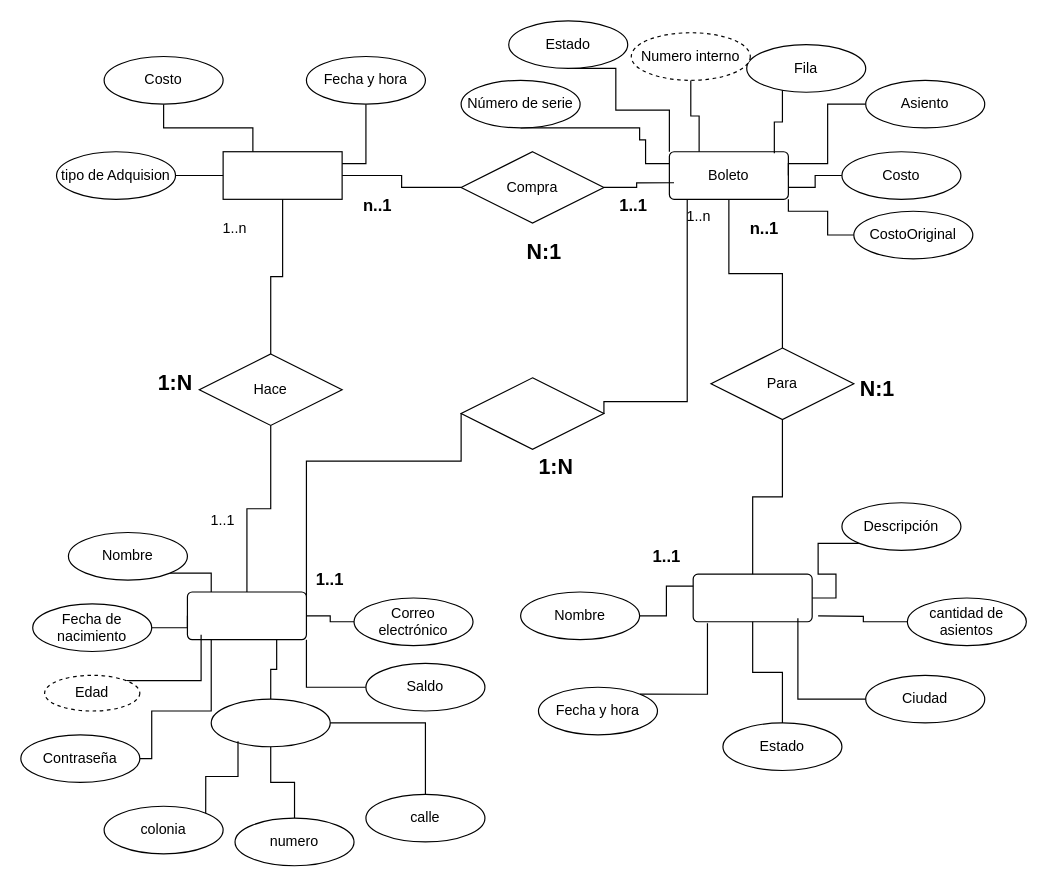
This 1047x887 diagram has some shape labels left out. Each missing label, with the centre of its shape:
Domicilio: (270,722)
Evento: (752,597)
Persona: (246,615)
Transacción: (282,175)
vende: (532,413)
